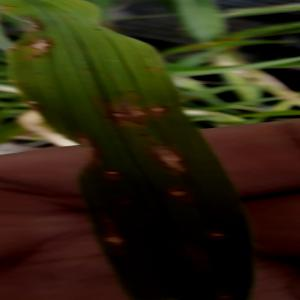1 RiceBlast: (145, 134, 192, 179), (100, 97, 149, 131), (26, 30, 62, 64), (96, 224, 127, 253), (165, 183, 200, 204), (203, 223, 233, 246), (151, 92, 171, 124), (96, 163, 126, 182)
